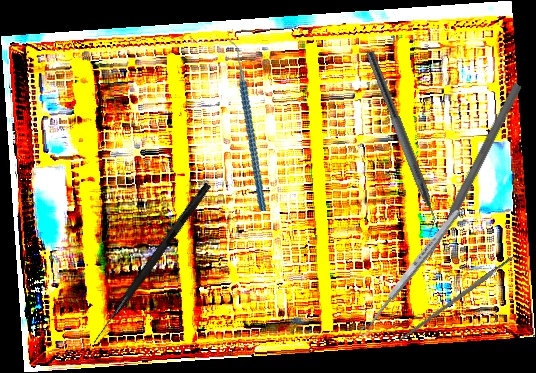Chopper: (353, 49, 448, 241), (195, 37, 295, 212)
Hook Surgical: (90, 180, 212, 348)
Pusher: (423, 81, 524, 262)
Scalpel Handle: (397, 255, 516, 343)
Surgical Spoon: (357, 206, 463, 339)
